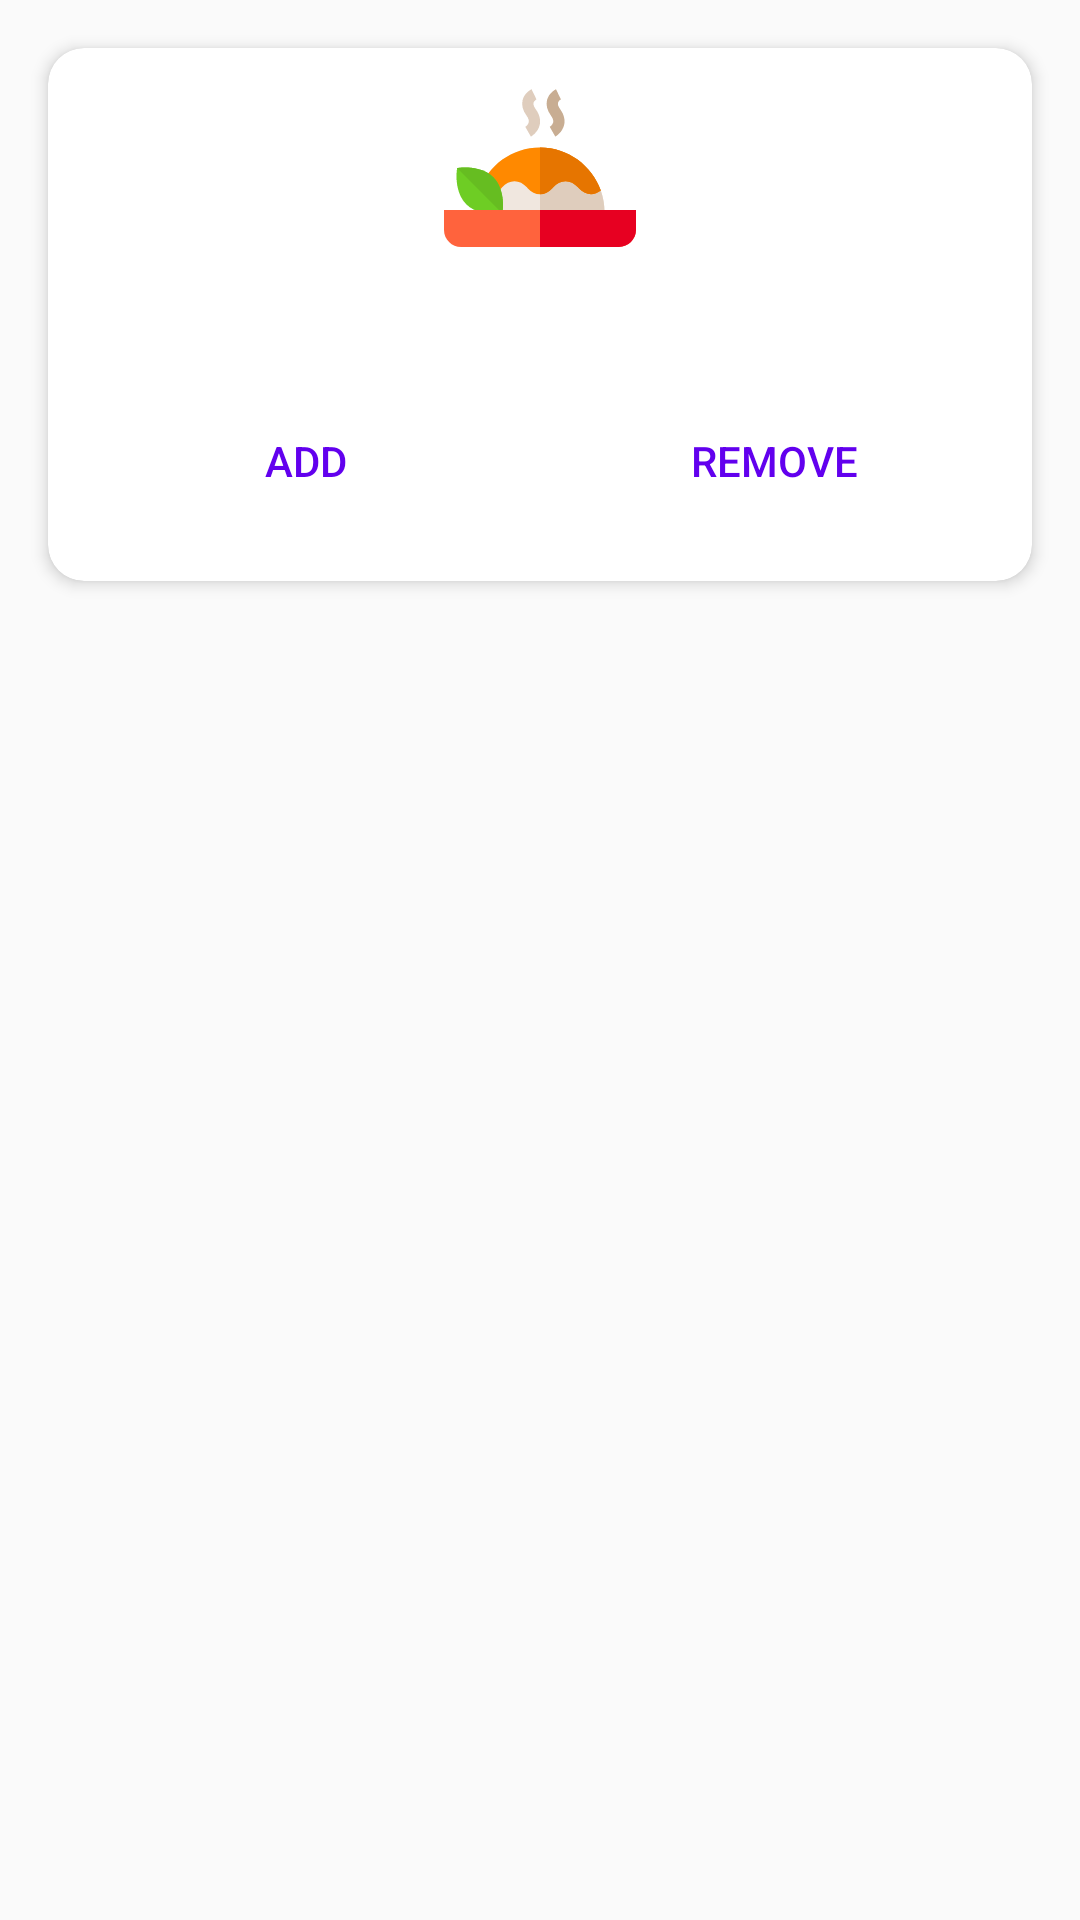

Point at icon controls on the screen. Image size 1080x1920, points as [x,y].
curry: [540,168]
